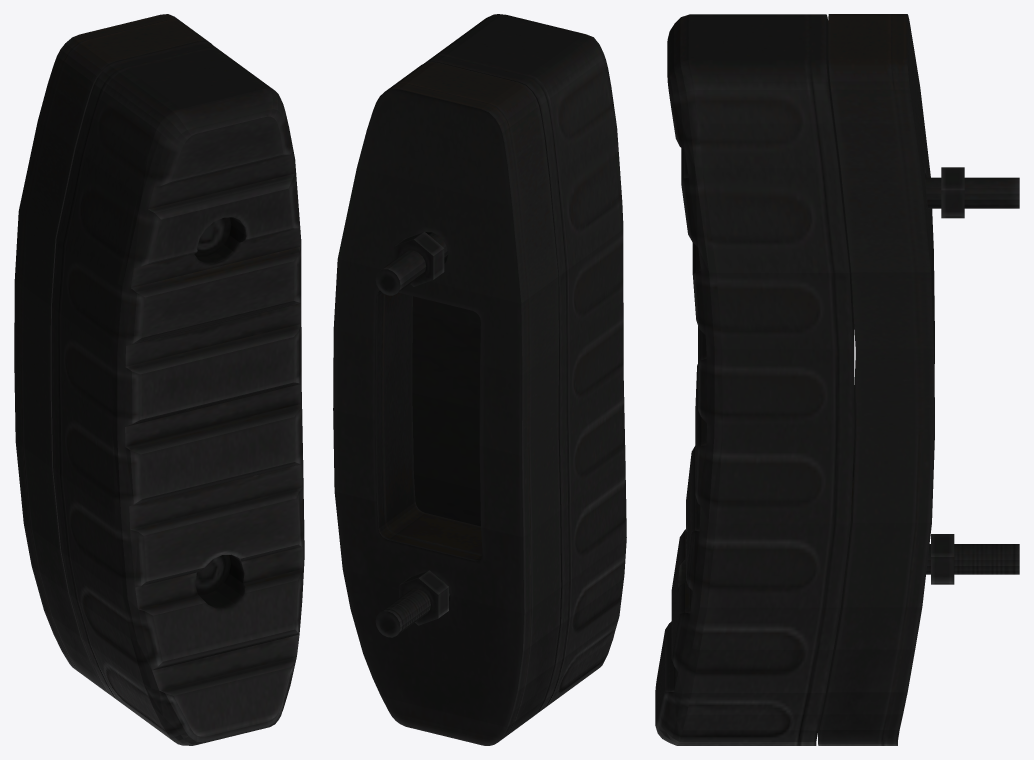
3 views of the same model, side by side, from view 1: azimuth 30°, elevation 25°; view 2: azimuth 150°, elevation 25°; view 3: azimuth 270°, elevation 25° (orthographic). The views are drawn at different scales.
Parts seen in each view (by area): view 1: TW_6494094948796d891603e59f_PZ_Import; view 2: TW_6494094948796d891603e59f_PZ_Import; view 3: TW_6494094948796d891603e59f_PZ_Import.
Part boxes in pixels (left/top/right/bottom): TW_6494094948796d891603e59f_PZ_Import: left=14, top=14, right=304, bottom=745; TW_6494094948796d891603e59f_PZ_Import: left=333, top=14, right=626, bottom=745; TW_6494094948796d891603e59f_PZ_Import: left=655, top=14, right=1019, bottom=745.
Size of the model in its own units: 0.0174 by 0.0272 by 0.0565.
Materials: 1 (1 with a texture image).
